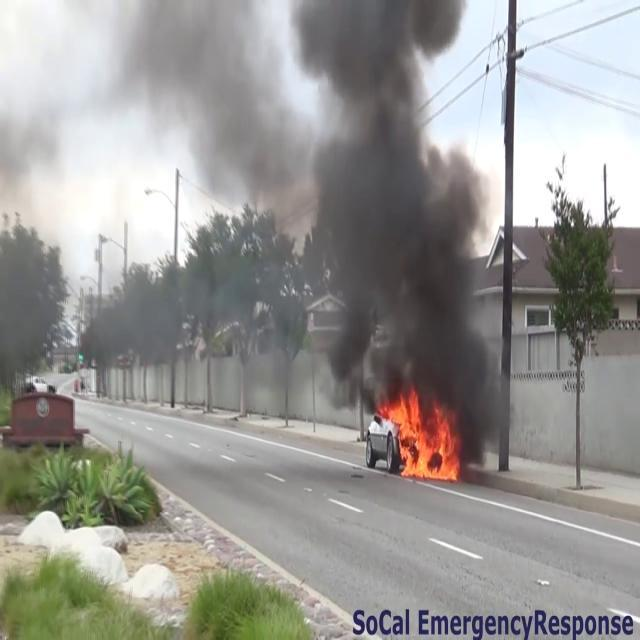Fire: (381, 388, 464, 486)
Smoke: (1, 0, 503, 387), (141, 0, 507, 401), (0, 34, 79, 373)
